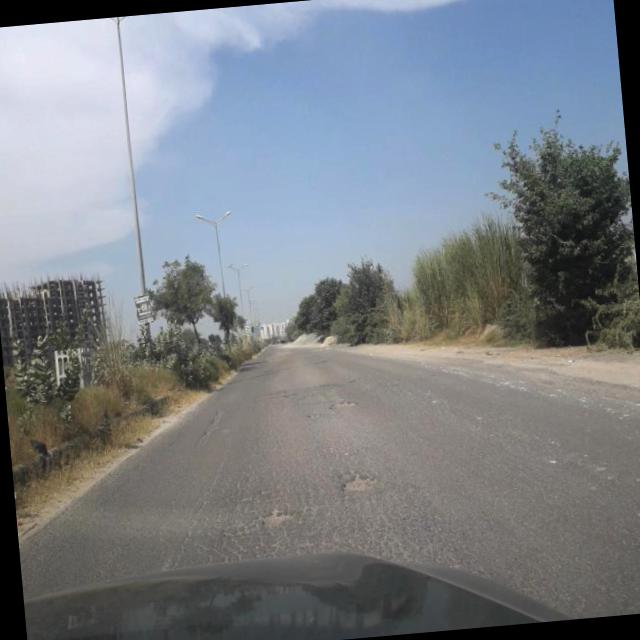crack: (23, 343, 640, 640), (167, 456, 234, 562), (195, 399, 228, 449)
pothole: (250, 500, 308, 532), (335, 468, 386, 497), (326, 389, 362, 419), (268, 382, 308, 403), (303, 406, 325, 426)
